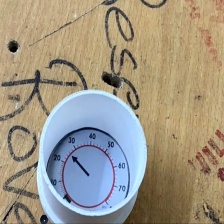gauge: (47, 127, 130, 212)
